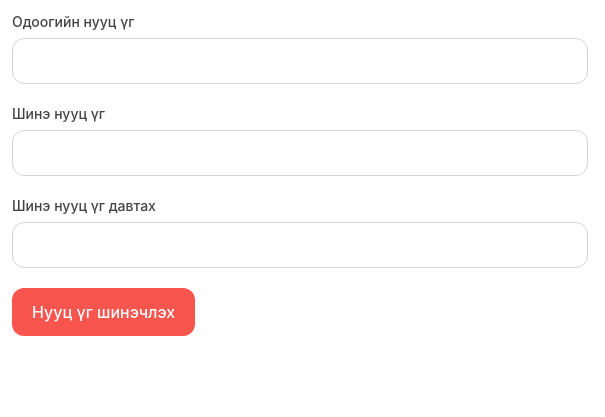
Scenario: account forms › confirms a successful password change
The width and height of the screenshot is (605, 417).
Type "Current1234" into the password field labelled "Одоогийн нууц үг" at x=300, y=61, box [12,38,588,84]
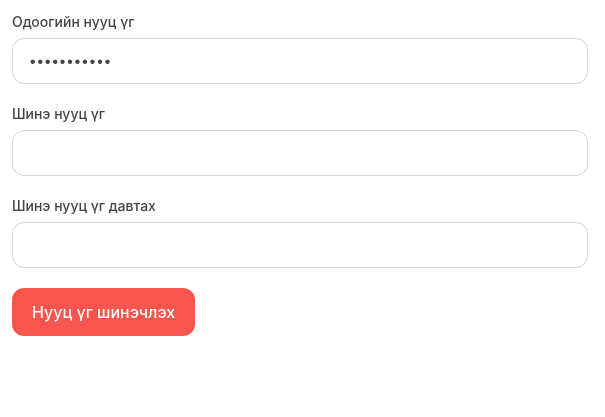
Type "NewPassword123" into the password field labelled "Шинэ нууц үг" at x=300, y=153, box [12,130,588,176]
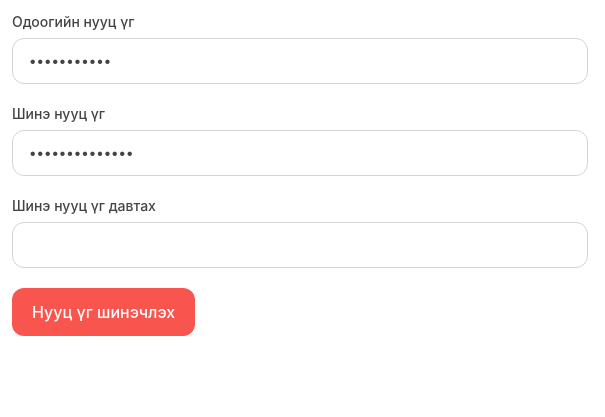
Type "NewPassword123" into the password field labelled "Шинэ нууц үг давтах" at x=300, y=245, box [12,222,588,268]
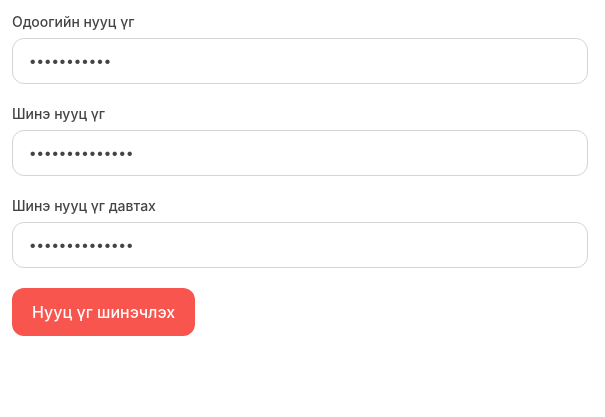
Click the button "Нууц үг шинэчлэх" at x=104, y=312, box [12,288,195,336]
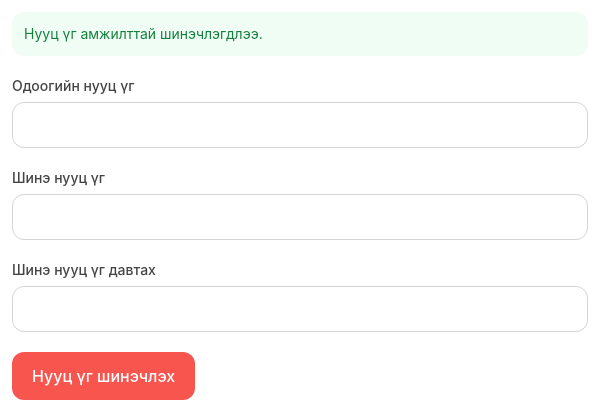
expect the text "Нууц үг амжилттай шинэчлэгдлээ." is shown: met, box [12,12,588,56]
